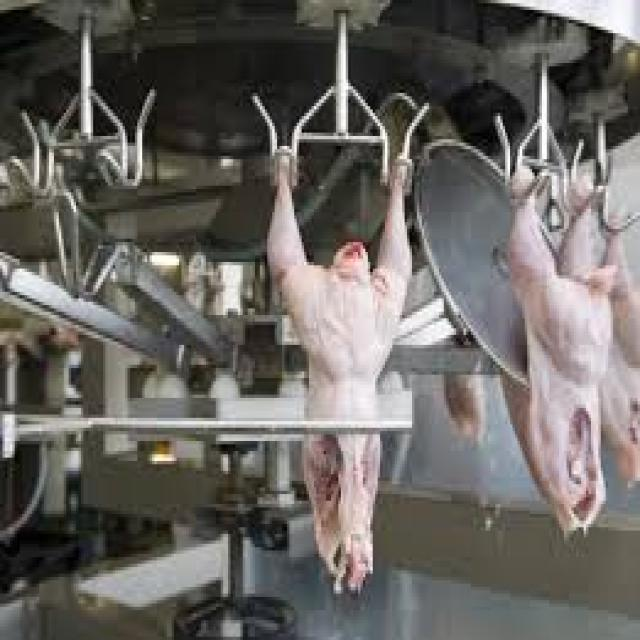Organik: (245, 129, 640, 640), (250, 127, 424, 608), (466, 133, 640, 586)
